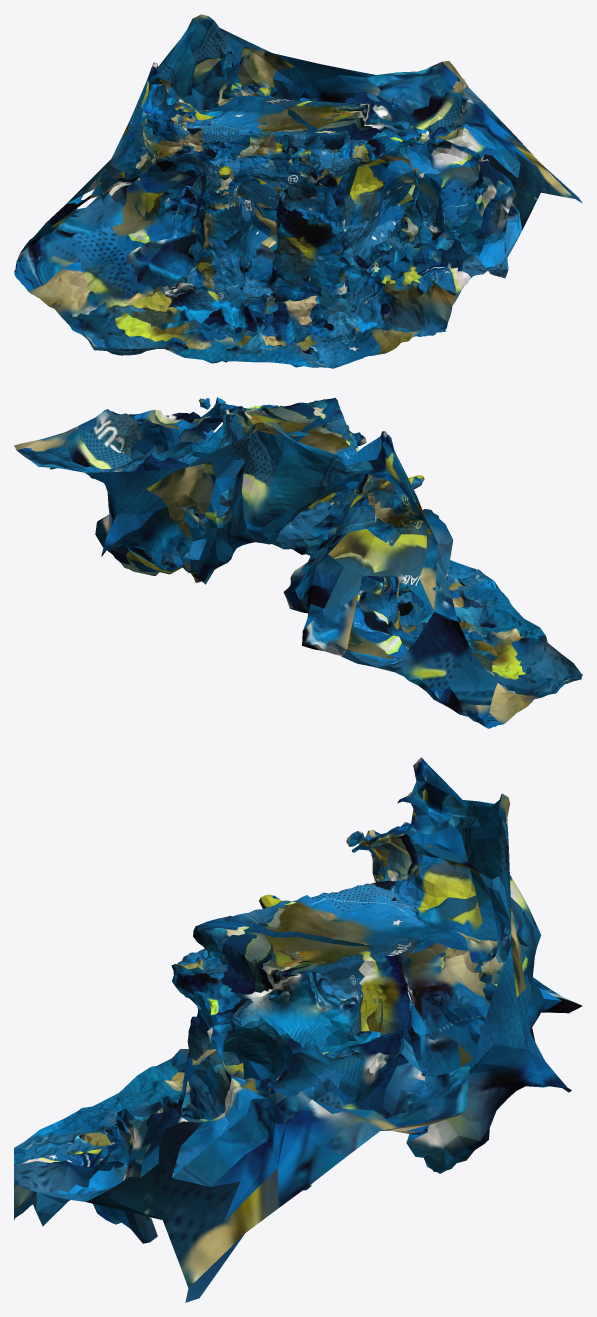
File: canudos.gltf
3 renders of one model, top to bottom at view 1: azimuth 30°, elevation 25°; view 2: azimuth 150°, elevation 25°; view 3: azimuth 270°, elevation 25°, orthographic. The views are drawn at different scales.
Parts seen in each view (by area): view 1: model_canudos_20240510_102504705; view 2: model_canudos_20240510_102504705; view 3: model_canudos_20240510_102504705.
Part boxes in pixels (x1,y1,x2,y2): model_canudos_20240510_102504705: [14, 14, 582, 368]; model_canudos_20240510_102504705: [14, 397, 582, 728]; model_canudos_20240510_102504705: [14, 757, 582, 1302].
Size of the model in its own units: 2.15 by 1.05 by 1.44.
